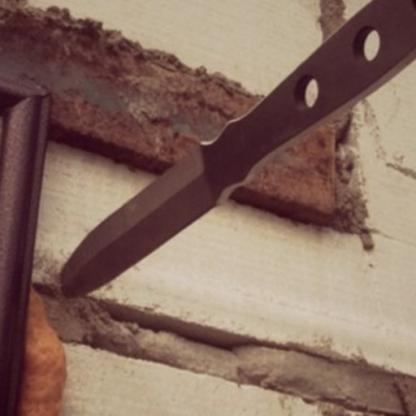knife: (55, 0, 416, 302)
